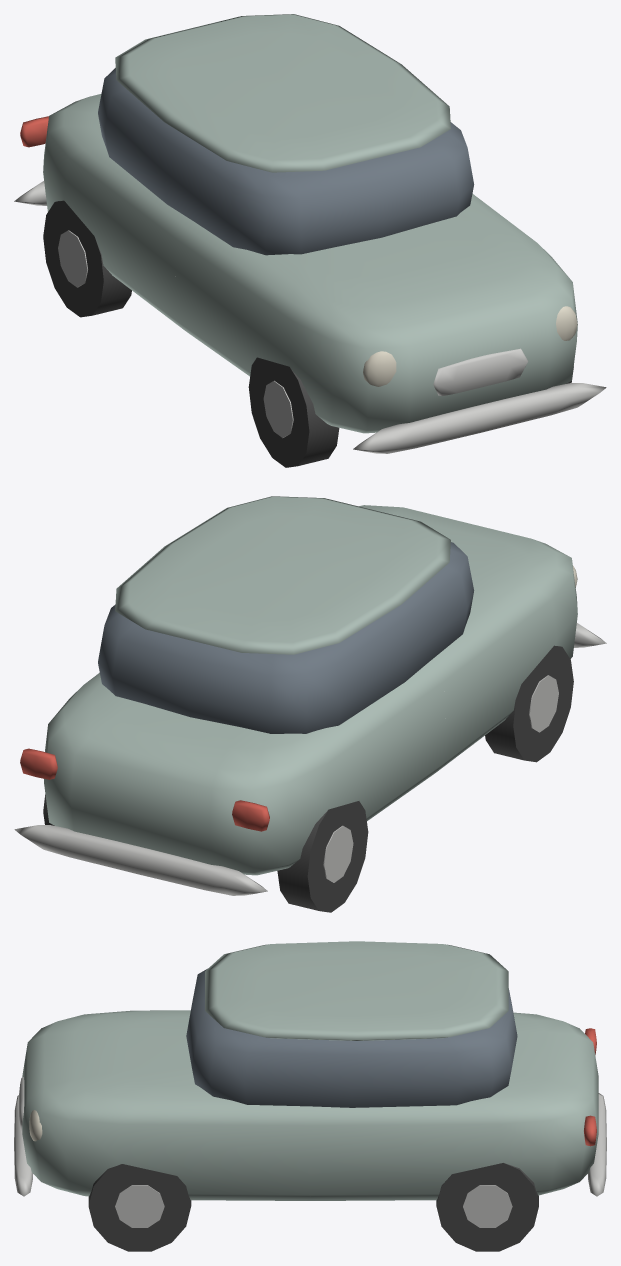
File: car.glb
The picture shows the model from 3 angles, top to bottom: view 1: azimuth 30°, elevation 25°; view 2: azimuth 150°, elevation 25°; view 3: azimuth 270°, elevation 25°; orthographic projection. The views are drawn at different scales.
Visible parts, largest first — view 1: Part0; view 2: Part0; view 3: Part0.
Part boxes in pixels (x1,y1,x2,y2): Part0: (14, 14, 606, 467); Part0: (14, 496, 606, 912); Part0: (14, 941, 606, 1251).
Bounding box in the file's own units: 1.6 × 1.42 × 3.58.
